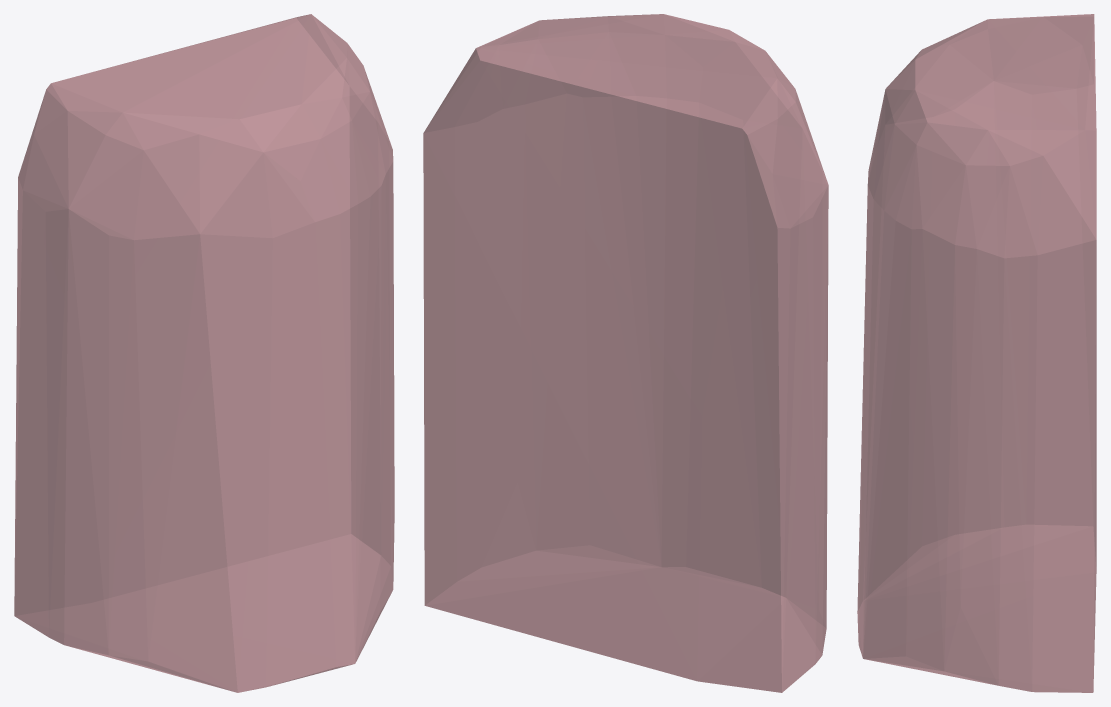
The picture shows the model from 3 angles, left to right: view 1: azimuth 30°, elevation 25°; view 2: azimuth 150°, elevation 25°; view 3: azimuth 270°, elevation 25°; orthographic projection. The views are drawn at different scales.
Visible parts, largest first — view 1: Shape_IndexedFaceSet.004_Shape_IndexedFaceSet.1755; view 2: Shape_IndexedFaceSet.004_Shape_IndexedFaceSet.1755; view 3: Shape_IndexedFaceSet.004_Shape_IndexedFaceSet.1755.
Part boxes in pixels (x1=…): Shape_IndexedFaceSet.004_Shape_IndexedFaceSet.1755: x1=14, y1=14, x2=394, y2=692; Shape_IndexedFaceSet.004_Shape_IndexedFaceSet.1755: x1=423, y1=14, x2=828, y2=692; Shape_IndexedFaceSet.004_Shape_IndexedFaceSet.1755: x1=857, y1=14, x2=1096, y2=692.
Size of the model in its own units: 0.2493 by 0.3916 by 0.1511.
